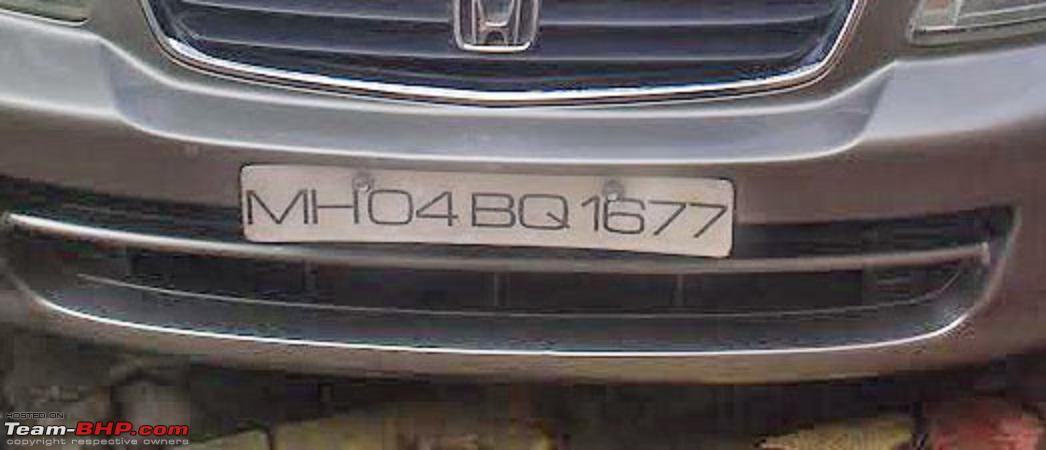number_plate: (234, 158, 738, 264)
